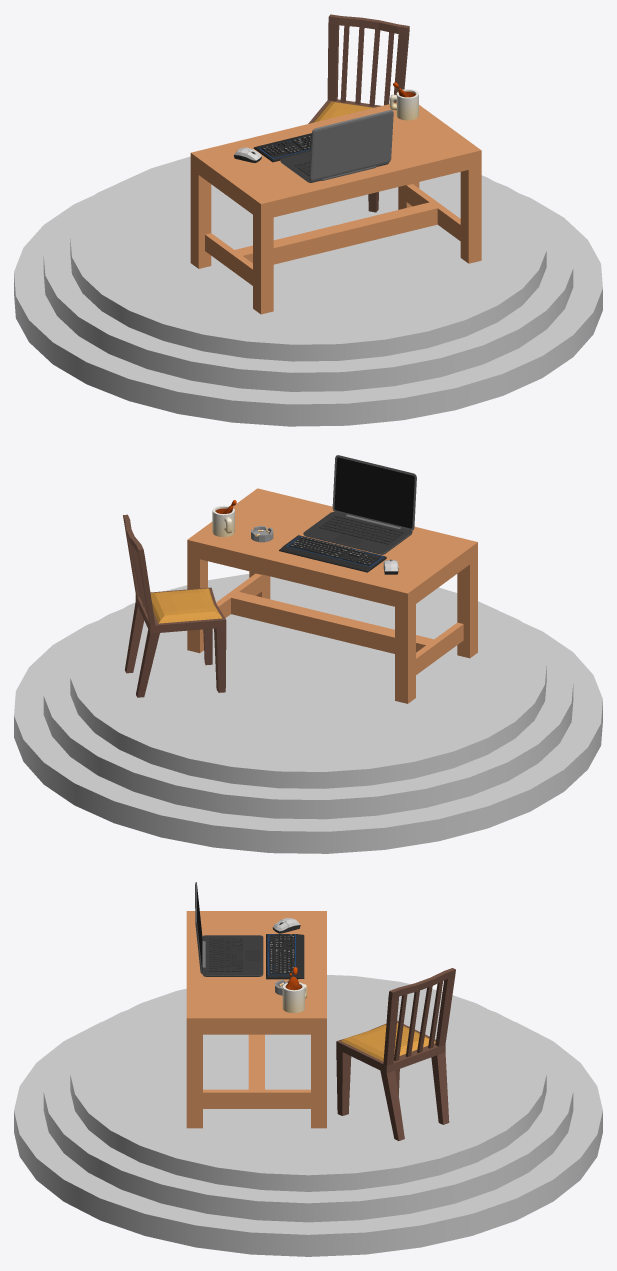
The model's file is setup.glb.
3 views of the same model, one above another, from view 1: azimuth 30°, elevation 25°; view 2: azimuth 150°, elevation 25°; view 3: azimuth 270°, elevation 25° (orthographic).
Visible parts, largest first — view 1: Project, Meja, Kursi, LapTop, Keyboard, Kopi; view 2: Project, Meja, LapTop, Kursi, Keyboard, Kopi; view 3: Project, Meja, Kursi, LapTop, Keyboard, Kopi.
Boxes of the visible parts, left/top/right/bottom form: Project: left=14, top=156, right=602, bottom=426; Meja: left=190, top=102, right=481, bottom=314; Kursi: left=308, top=14, right=409, bottom=212; LapTop: left=280, top=110, right=393, bottom=182; Keyboard: left=253, top=133, right=311, bottom=162; Kopi: left=390, top=82, right=418, bottom=120; Project: left=14, top=574, right=602, bottom=853; Meja: left=187, top=488, right=477, bottom=703; LapTop: left=303, top=455, right=416, bottom=554; Kursi: left=123, top=514, right=226, bottom=697; Keyboard: left=279, top=535, right=386, bottom=572; Kopi: left=212, top=500, right=236, bottom=537; Project: left=14, top=975, right=602, bottom=1256; Meja: left=186, top=911, right=326, bottom=1128; Kursi: left=336, top=968, right=455, bottom=1140; LapTop: left=195, top=882, right=263, bottom=976; Keyboard: left=266, top=934, right=304, bottom=979; Kopi: left=282, top=967, right=306, bottom=1013.
Bounding box in the file's own units: 33.49 × 14.2 × 33.49.
14 materials, 3 textured.
